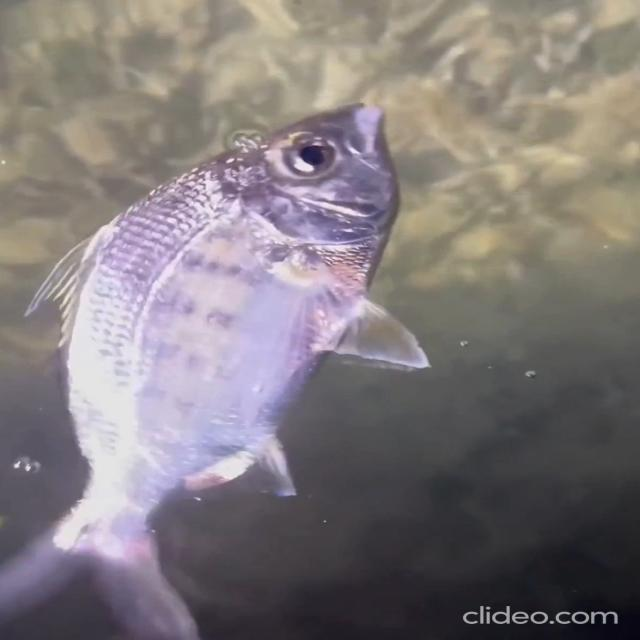fish: (5, 85, 437, 640)
